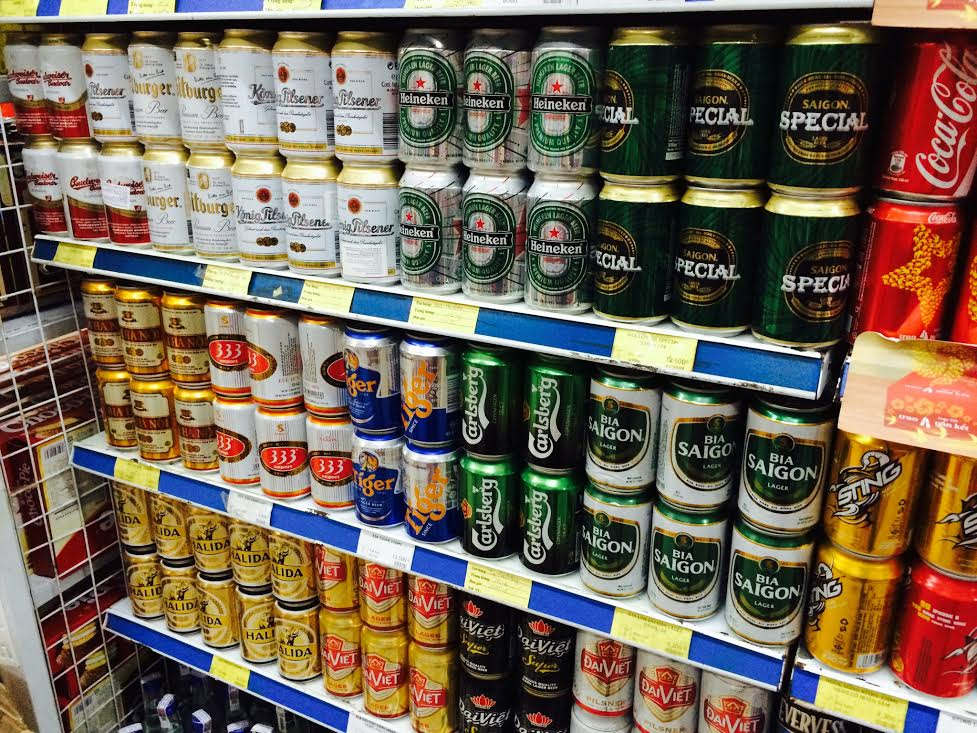333: (315, 458, 344, 477), (269, 448, 298, 466), (214, 343, 241, 361)
biadaiviet: (705, 705, 760, 733), (641, 679, 691, 708), (406, 588, 452, 618), (584, 653, 632, 680), (359, 576, 403, 603)
biahalida: (230, 550, 271, 564), (190, 541, 229, 553), (164, 599, 199, 612)
biahanoi: (164, 334, 205, 351)
biasaigon: (744, 452, 819, 483), (734, 571, 800, 599), (581, 525, 635, 559), (584, 418, 644, 444), (654, 549, 715, 574), (798, 95, 848, 113), (805, 261, 850, 274), (679, 246, 717, 261)
carlsberg: (527, 375, 560, 462), (469, 477, 507, 552), (521, 490, 556, 566), (459, 366, 492, 446)
cocacola: (912, 46, 975, 187)
heineken: (530, 239, 581, 258), (398, 90, 450, 108), (532, 97, 587, 113)
sting: (831, 457, 905, 511)
tiger: (404, 468, 451, 536), (352, 470, 395, 495)
